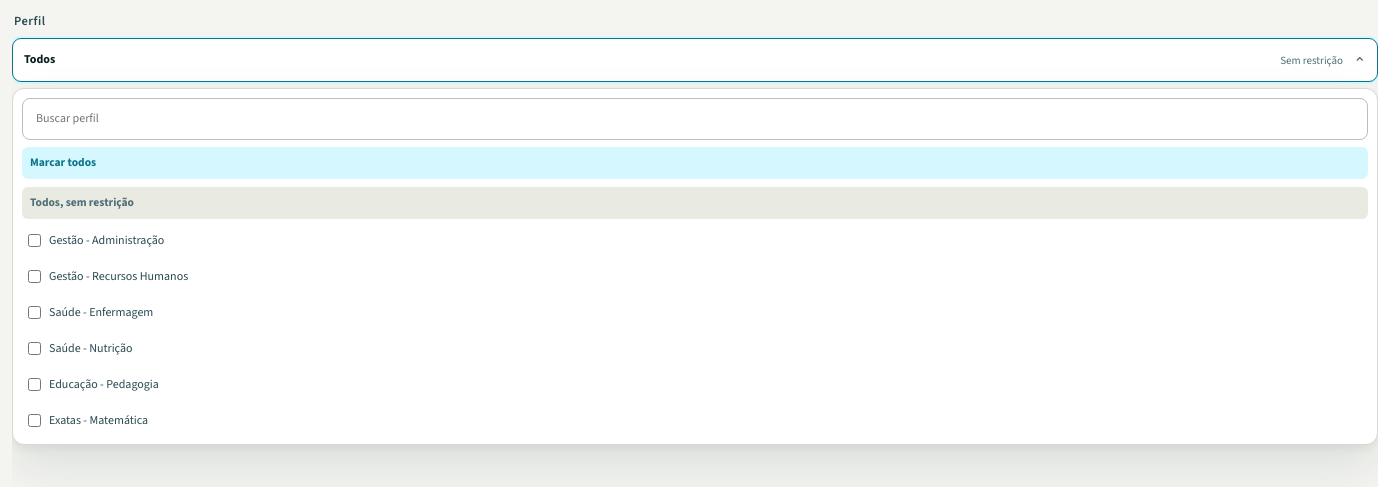
it: MultiSelect › marcar em massa respeita o que a busca deixou visível
Type "exatas" into the search field at (695, 119), box x1=22 y1=98 x2=1368 y2=140
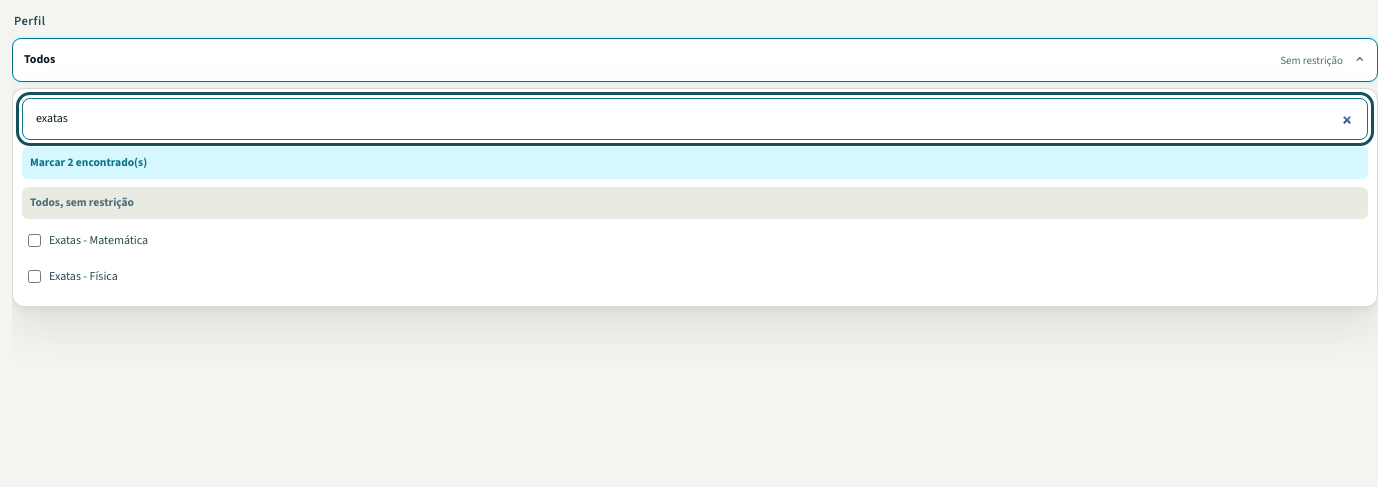
Click the button "Marcar 2 encontrado(s)" at (89, 163), box x1=22 y1=147 x2=1368 y2=179
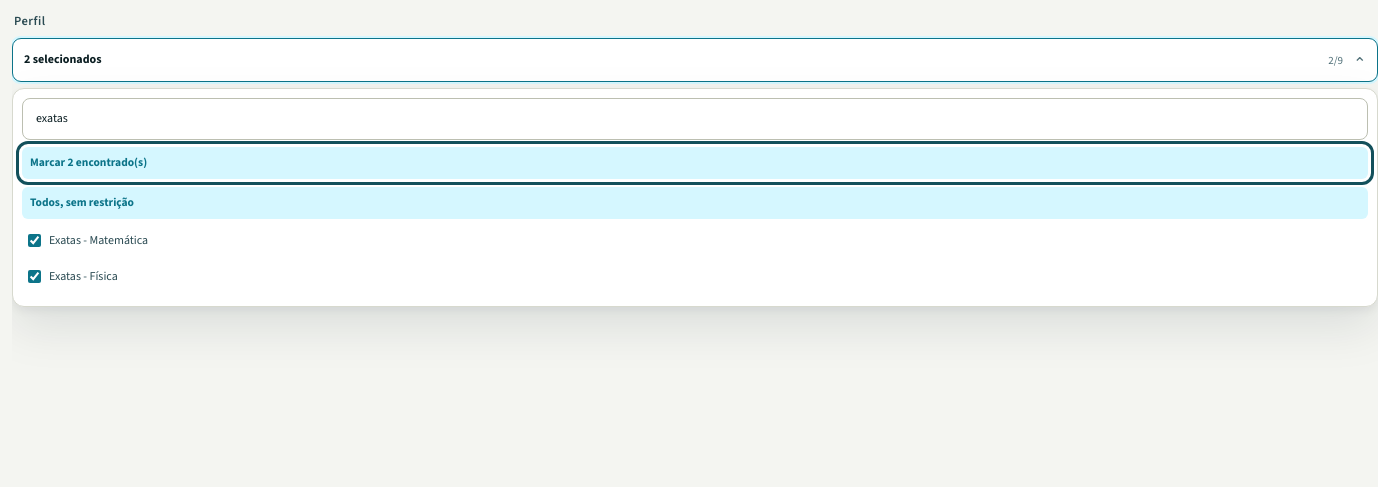
Expected: the heading "2 selecionados 2/9" is shown, x1=12 y1=38 x2=1377 y2=82
